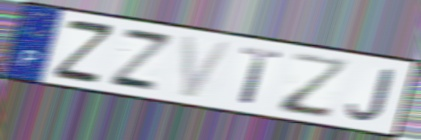J: (345, 67, 395, 123)
T: (238, 46, 285, 107)
V: (180, 33, 236, 100)
Z: (278, 51, 352, 122), (105, 25, 176, 94), (51, 17, 117, 85)
